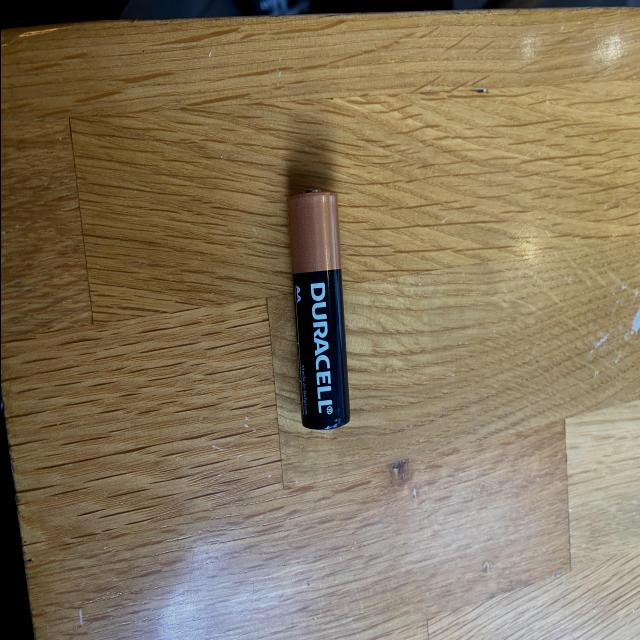AA: (284, 185, 353, 435)
